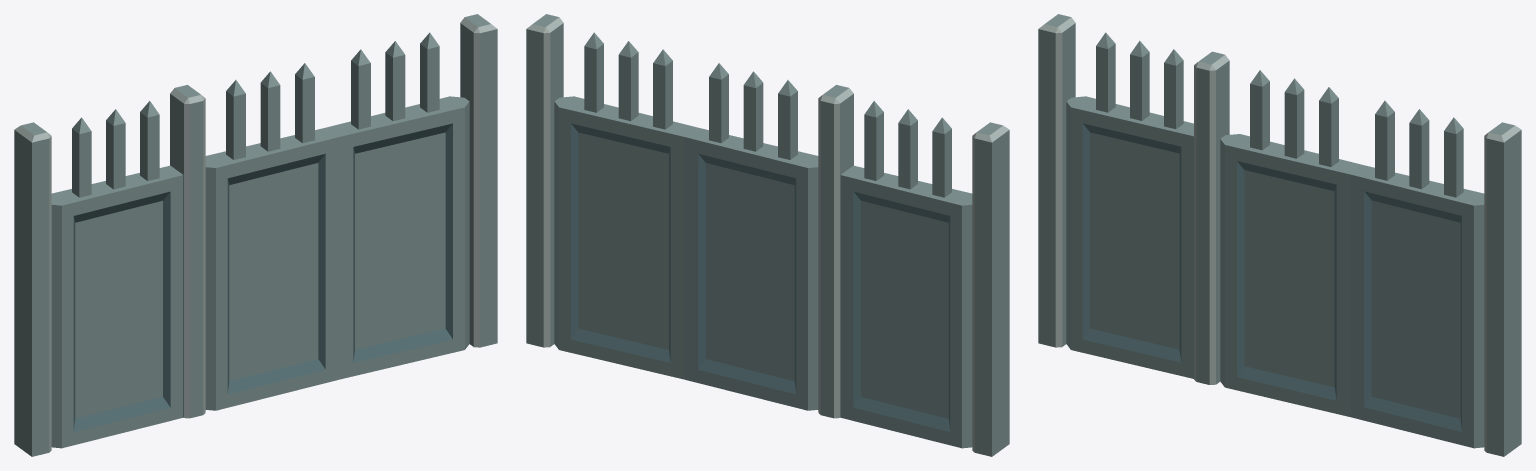
The model's file is Gates.fbx.
3 views of the same model, side by side, from view 1: azimuth 30°, elevation 25°; view 2: azimuth 150°, elevation 25°; view 3: azimuth 330°, elevation 25° (orthographic).
Visible parts, largest first — view 1: Gates_door1, Gates_door3, Gates_door2, Gates; view 2: Gates_door1, Gates_door3, Gates_door2, Gates; view 3: Gates_door2, Gates_door1, Gates_door3, Gates.
Boxes of the visible parts, x1,y1,x2,y2 form: Gates_door1: (205, 63, 339, 410); Gates_door3: (51, 101, 183, 448); Gates_door2: (327, 32, 469, 379); Gates: (14, 14, 497, 456); Gates_door1: (684, 63, 818, 410); Gates_door3: (840, 101, 972, 448); Gates_door2: (554, 32, 696, 379); Gates: (526, 14, 1009, 456); Gates_door2: (1351, 100, 1484, 448); Gates_door1: (1220, 70, 1363, 417); Gates_door3: (1066, 32, 1193, 378); Gates: (1038, 14, 1521, 456).
Size of the model in its own units: 402 by 263 by 26.42.
